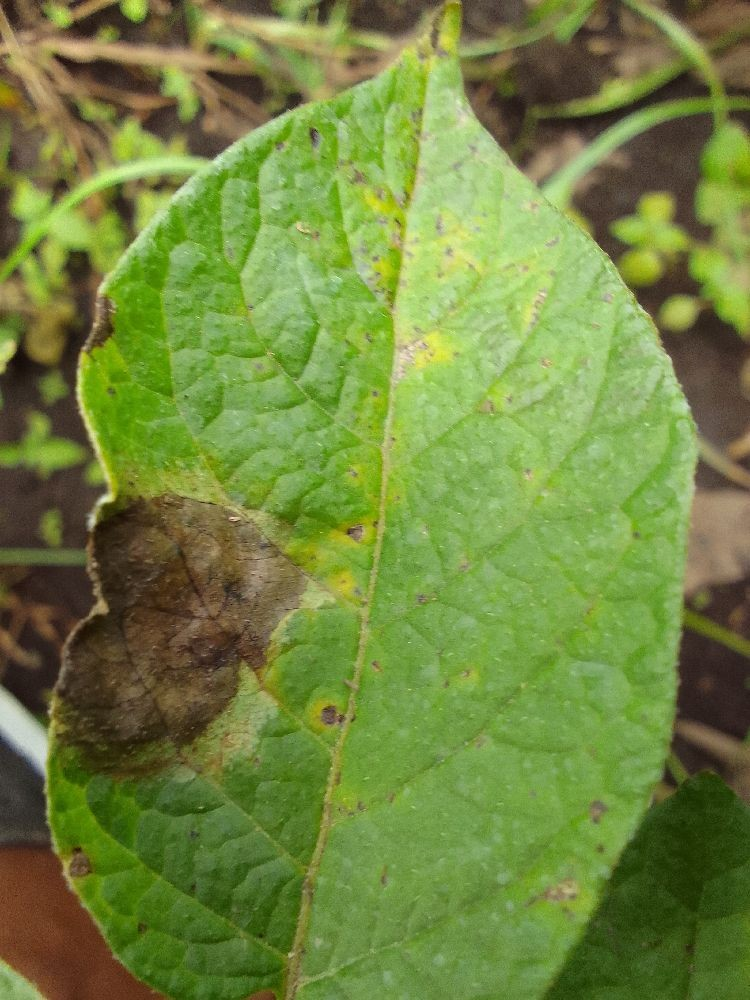late_blight: (0, 0, 749, 821), (0, 753, 201, 1000)
